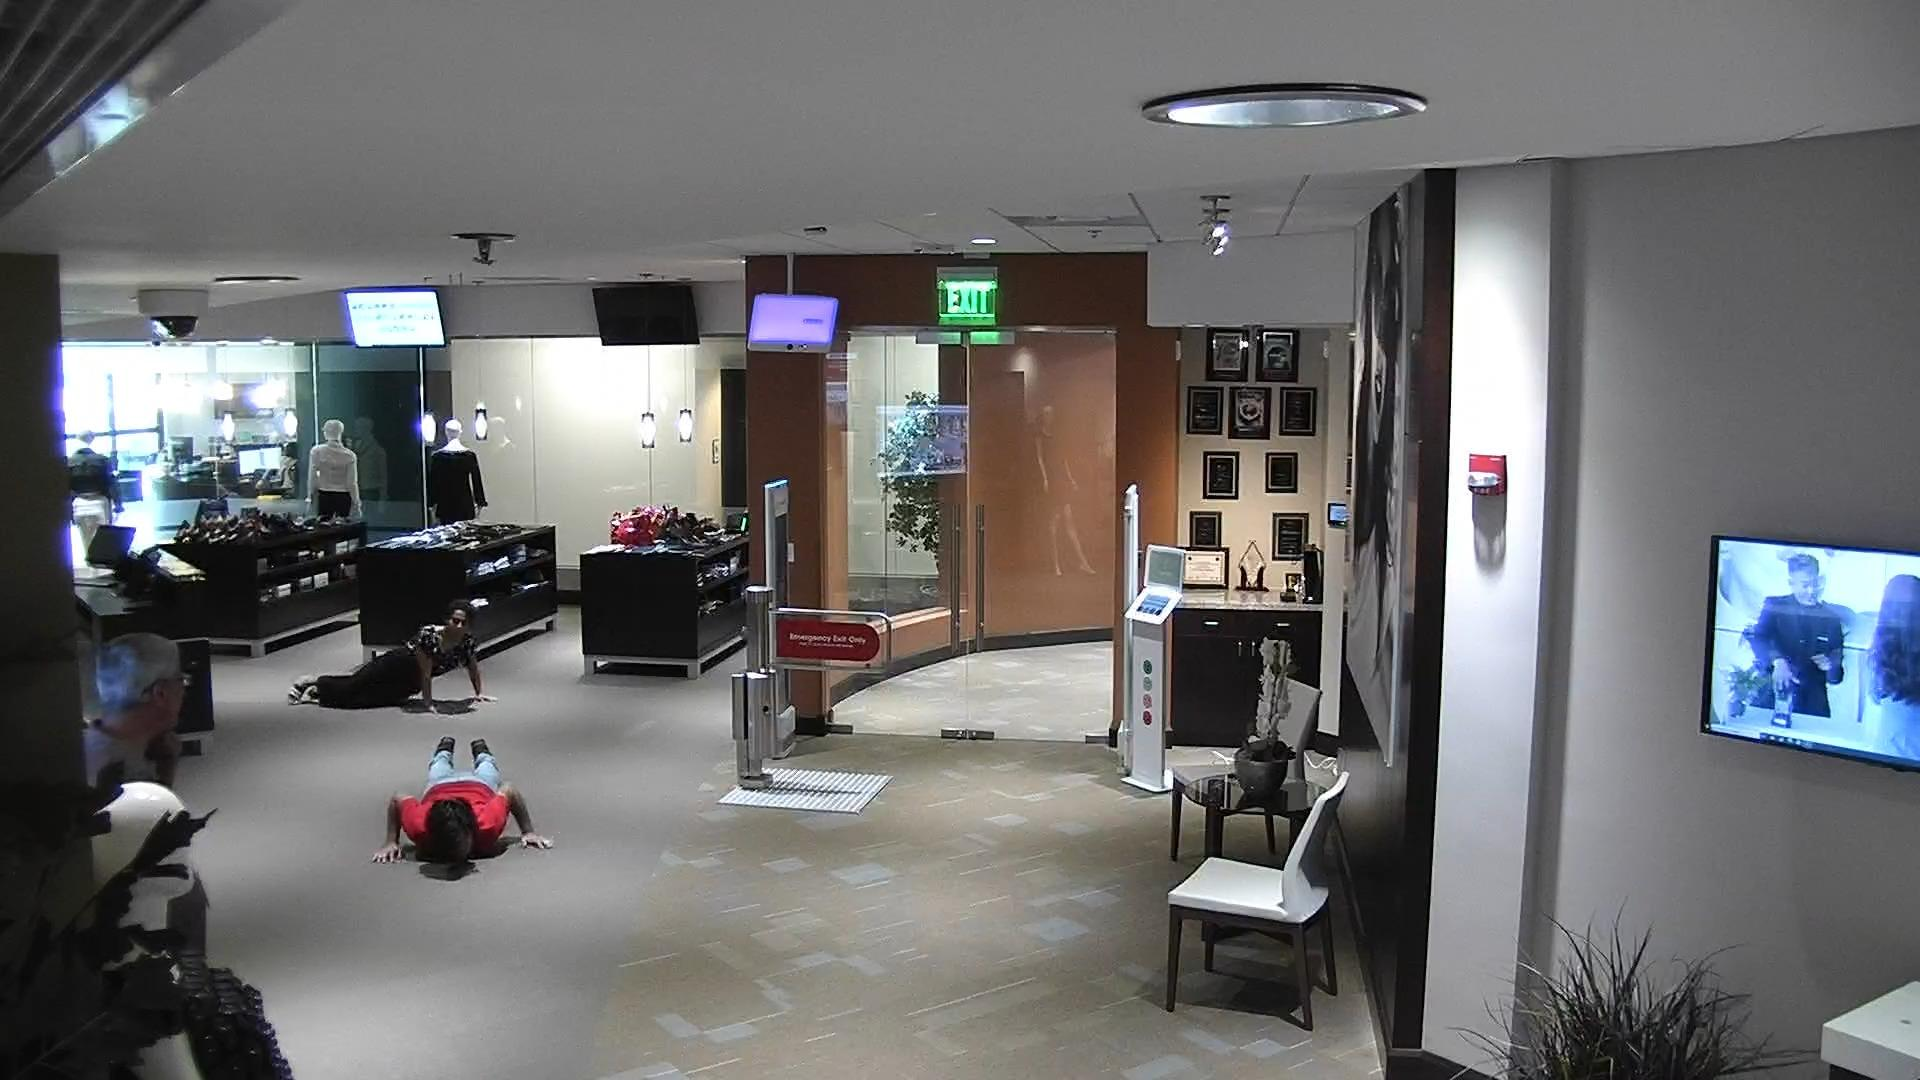fall: (359, 727, 554, 886), (278, 599, 504, 715)
